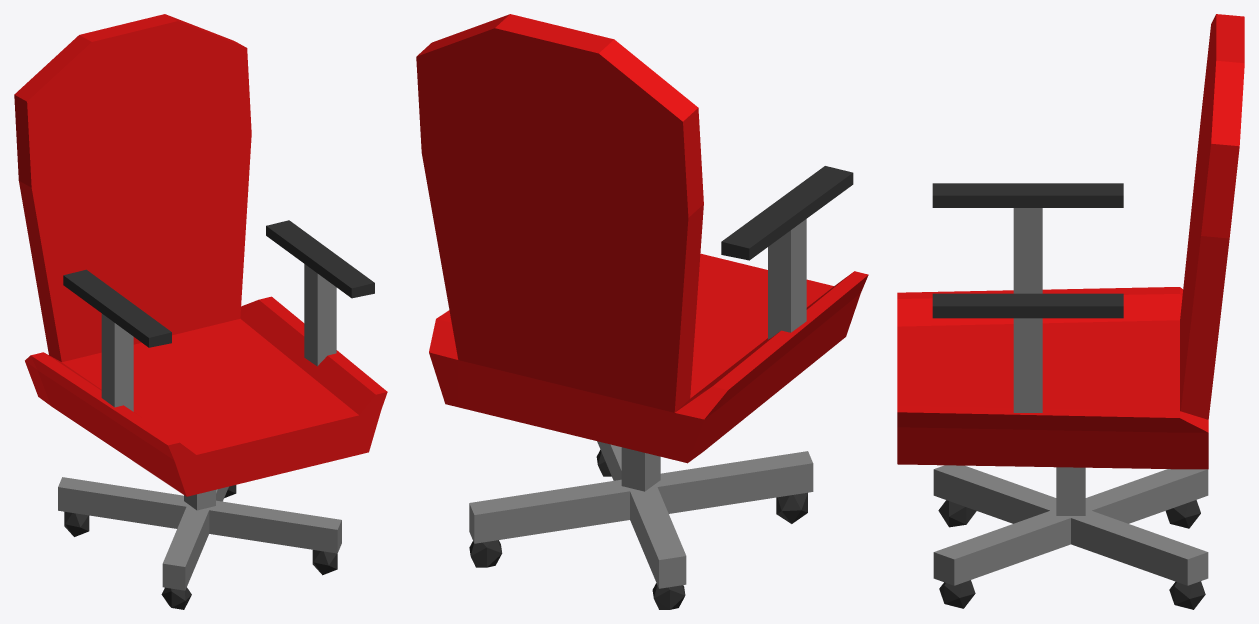
Rendered from Chair_Red.fbx.
3 renders of one model, left to right at view 1: azimuth 30°, elevation 25°; view 2: azimuth 150°, elevation 25°; view 3: azimuth 270°, elevation 25°, orthographic. The views are drawn at different scales.
Visible parts, largest first — view 1: Chair_Red; view 2: Chair_Red; view 3: Chair_Red.
Part boxes in pixels (x1,y1,x2,y2): Chair_Red: [14, 14, 387, 609]; Chair_Red: [416, 14, 868, 609]; Chair_Red: [897, 14, 1244, 609].
Size of the model in its own units: 52.6 by 98.72 by 58.86.
1 material, 1 textured.
